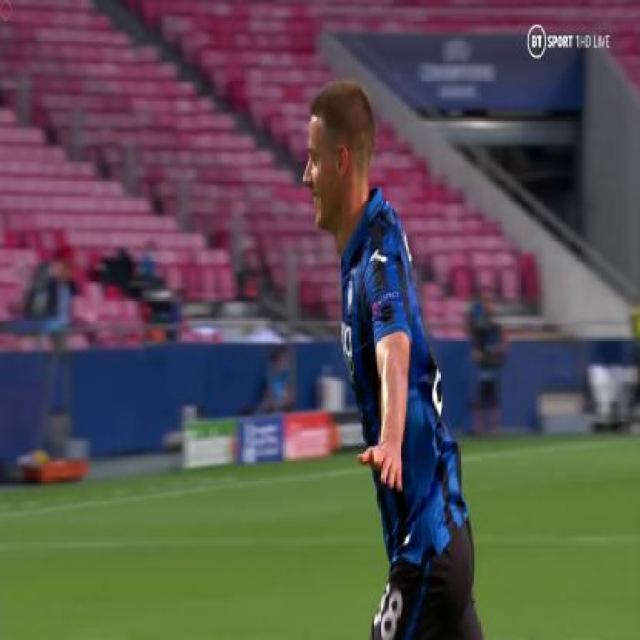player: (292, 52, 508, 640)
